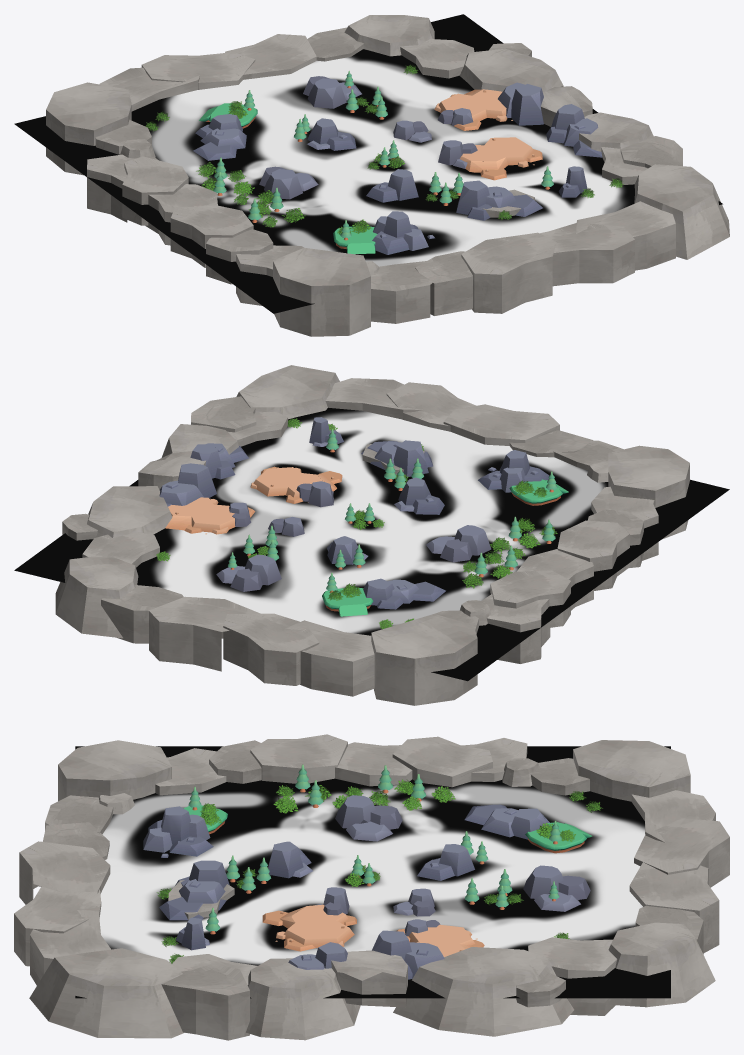
Rendered from dreamland.glb.
3 renders of one model, top to bottom at view 1: azimuth 30°, elevation 25°; view 2: azimuth 150°, elevation 25°; view 3: azimuth 270°, elevation 25°, orthographic. The views are drawn at different scales.
Visible parts, largest first — view 1: solid_combined; view 2: solid_combined; view 3: solid_combined.
Boxes of the visible parts, box(x1,y1,x2,y2) form: solid_combined: box(14, 14, 729, 336); solid_combined: box(14, 365, 729, 705); solid_combined: box(14, 734, 729, 1040).
Size of the model in its own units: 2.53 by 0.3248 by 2.89.
Materials: 12 (12 with a texture image).
